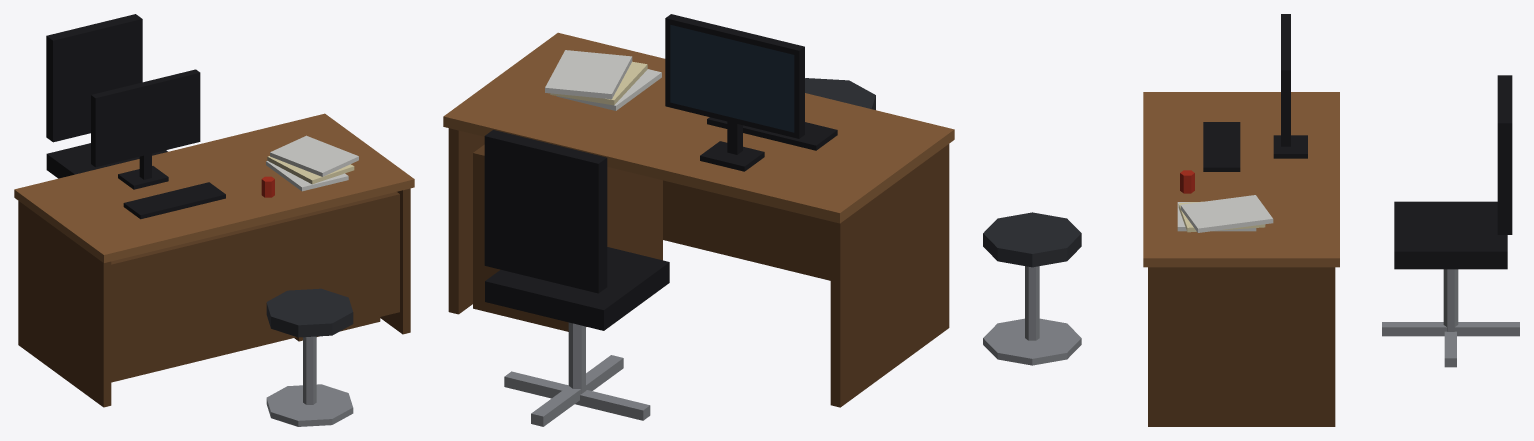
File: prop_office-desk.dbe9b741a022.glb
3 renders of one model, left to right at view 1: azimuth 30°, elevation 25°; view 2: azimuth 150°, elevation 25°; view 3: azimuth 270°, elevation 25°, orthographic. The views are drawn at different scales.
Visible parts, largest first — view 1: body; view 2: body; view 3: body.
Part boxes in pixels (x1,y1,x2,y2): body: (14,14,414,426); body: (443,14,954,426); body: (983,14,1519,426).
Size of the model in its own units: 1.6 by 1.24 by 2.18.
